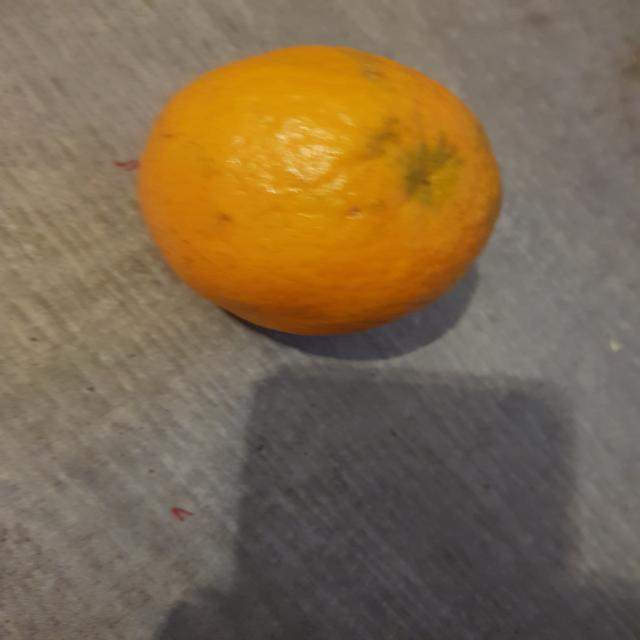Orange: (130, 45, 504, 339)
